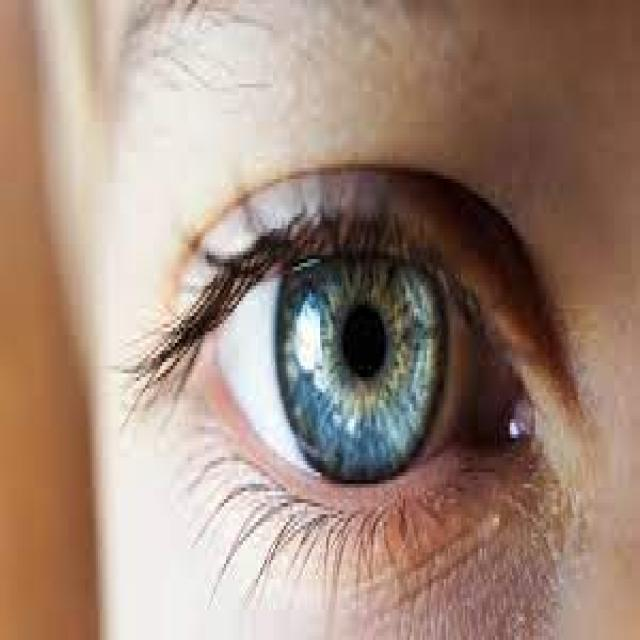Eyes-iris: (269, 234, 458, 495)
